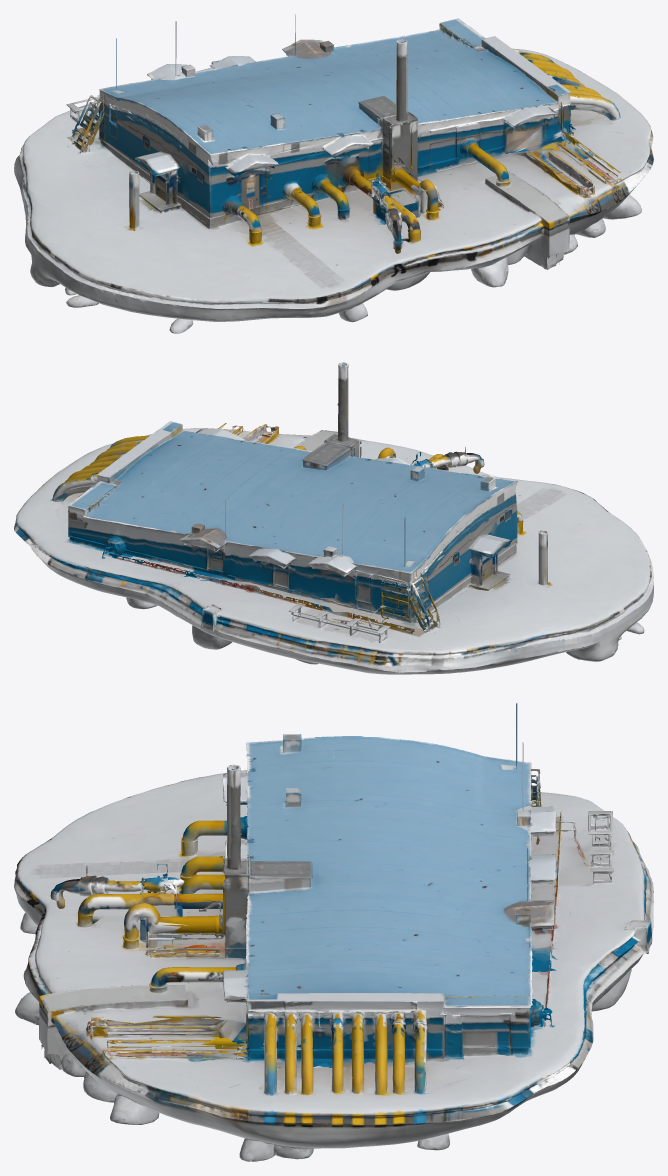
The model's file is construction-01.glb.
The picture shows the model from 3 angles, top to bottom: view 1: azimuth 30°, elevation 25°; view 2: azimuth 150°, elevation 25°; view 3: azimuth 270°, elevation 25°; orthographic projection. The views are drawn at different scales.
Bounding box in the file's own units: 1.92 × 0.6114 × 1.42.
Materials: 1 (1 with a texture image).
